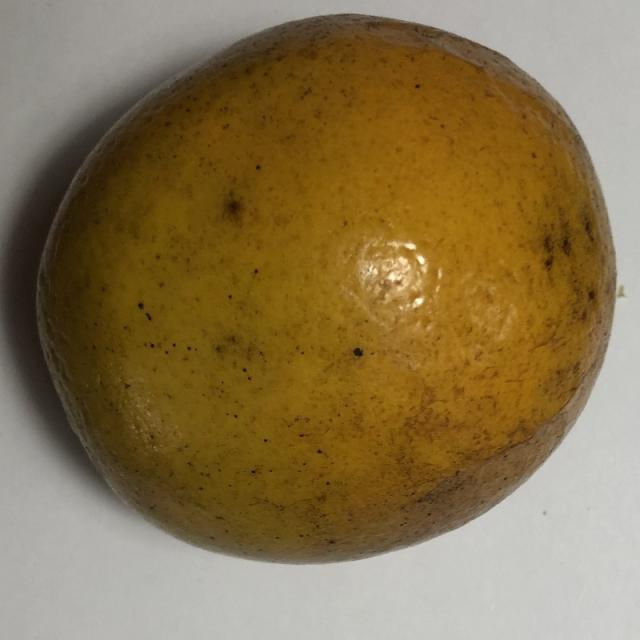blackspot: (14, 0, 637, 591)
